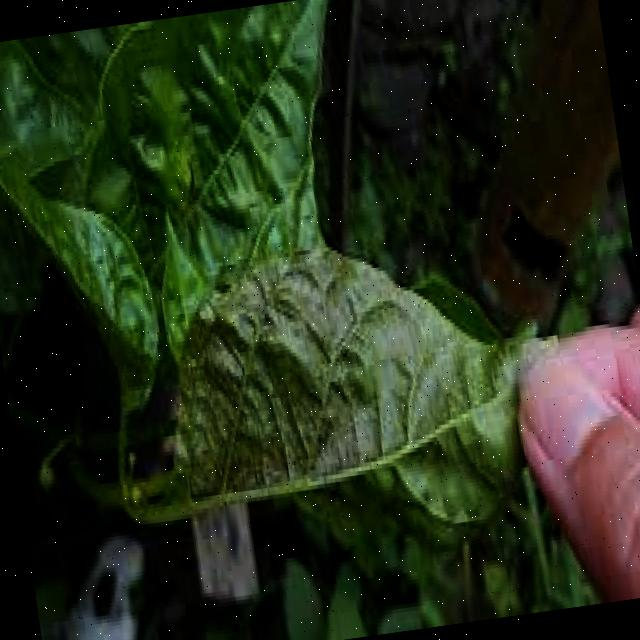leaf curl: (84, 202, 536, 628)
